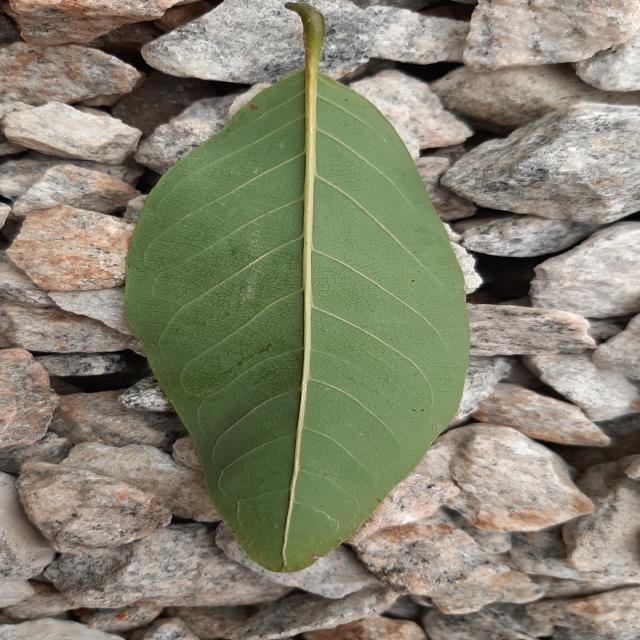seethaphala: (127, 5, 469, 571)
